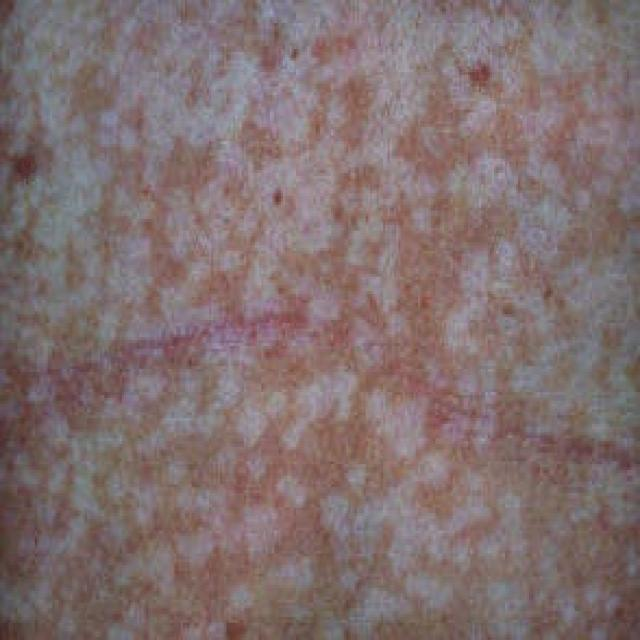Tinea Ringworm Candidiasis and other Fungal Infections: (95, 105, 607, 537)
